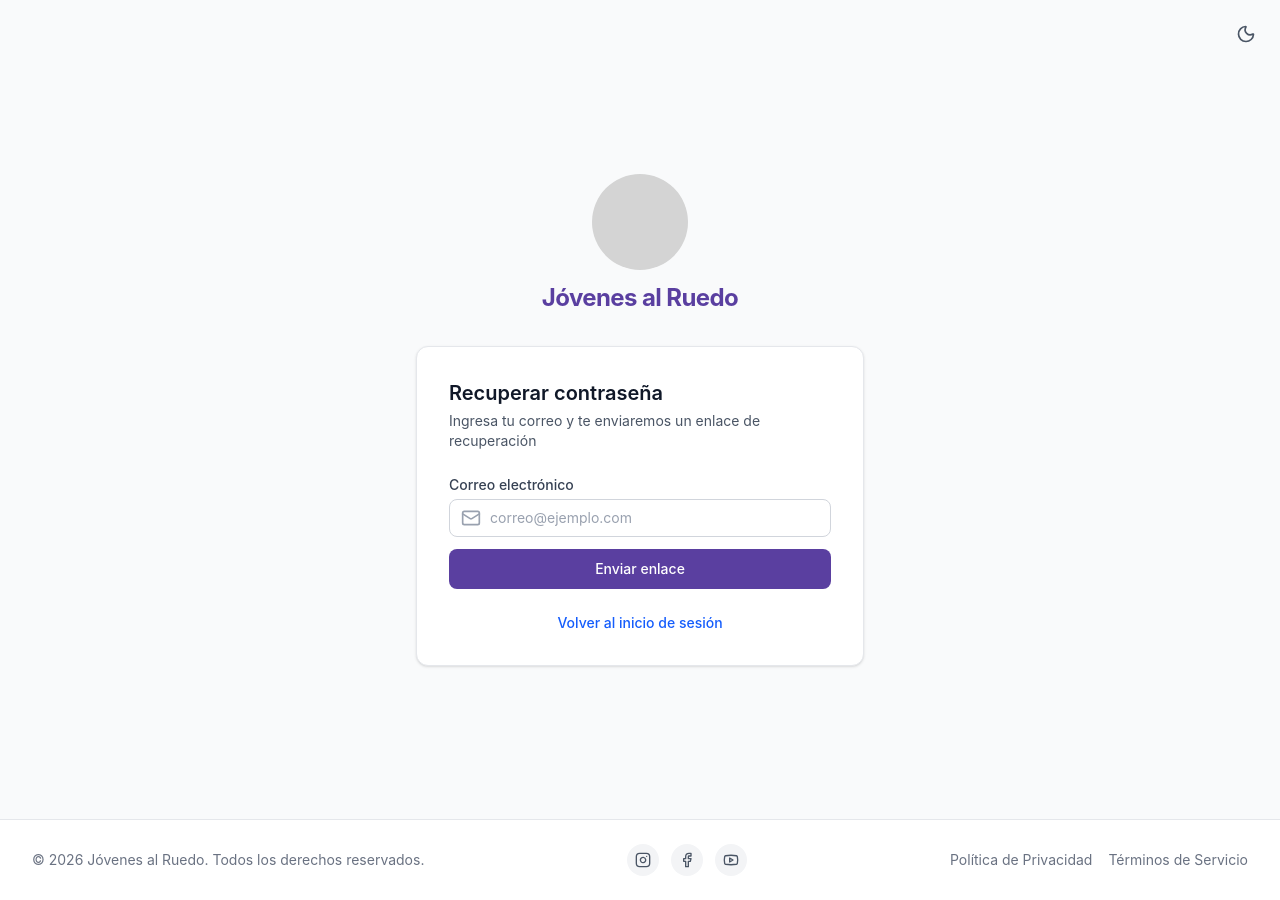
Test case: ForgotPasswordPage › muestra mensaje de éxito tras enviar solicitud
In the field labelled "Correo electrónico": (640, 518) [449,498,831,536], type "test@nn.com"
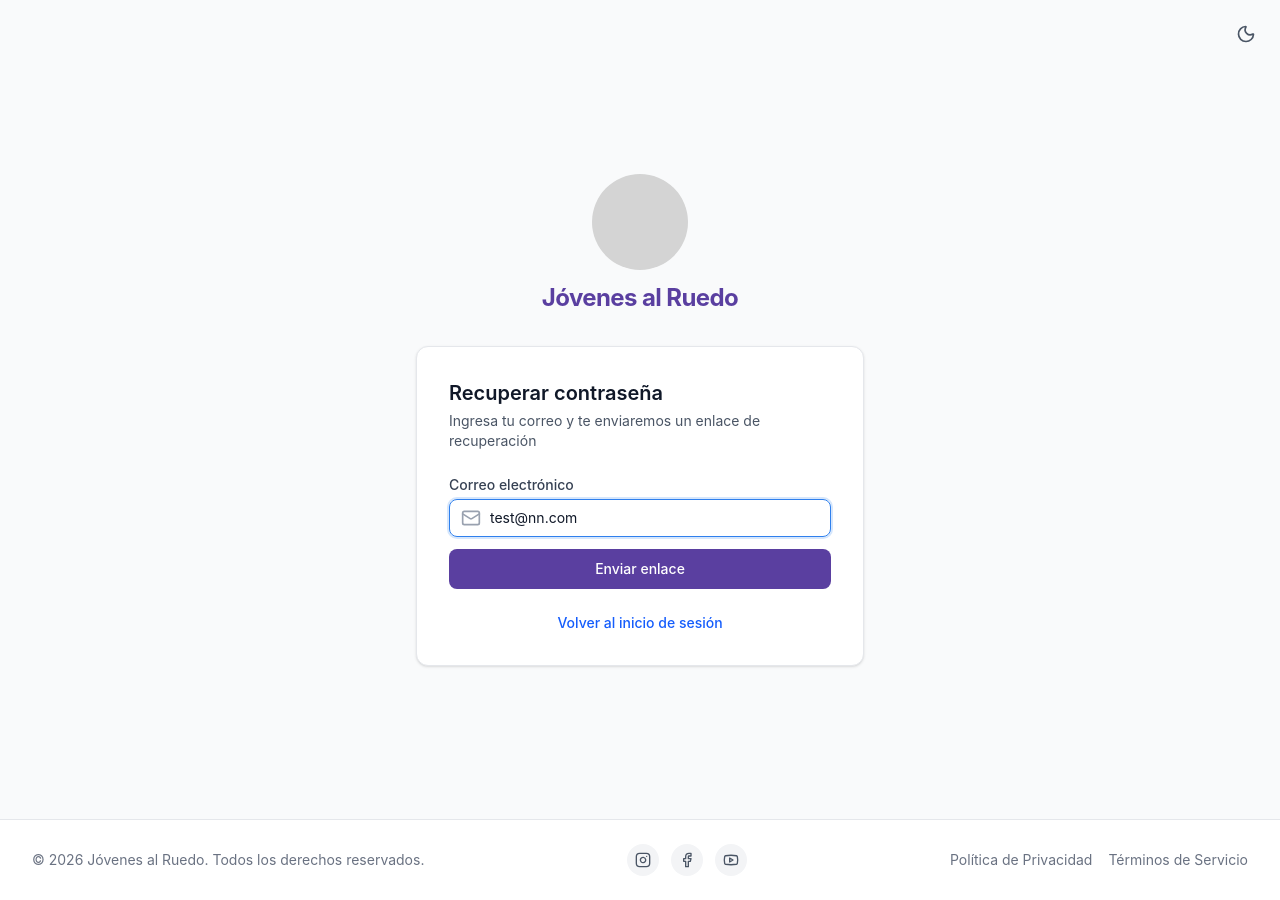
Click the button "Enviar enlace": click(640, 568) [449,548,831,588]
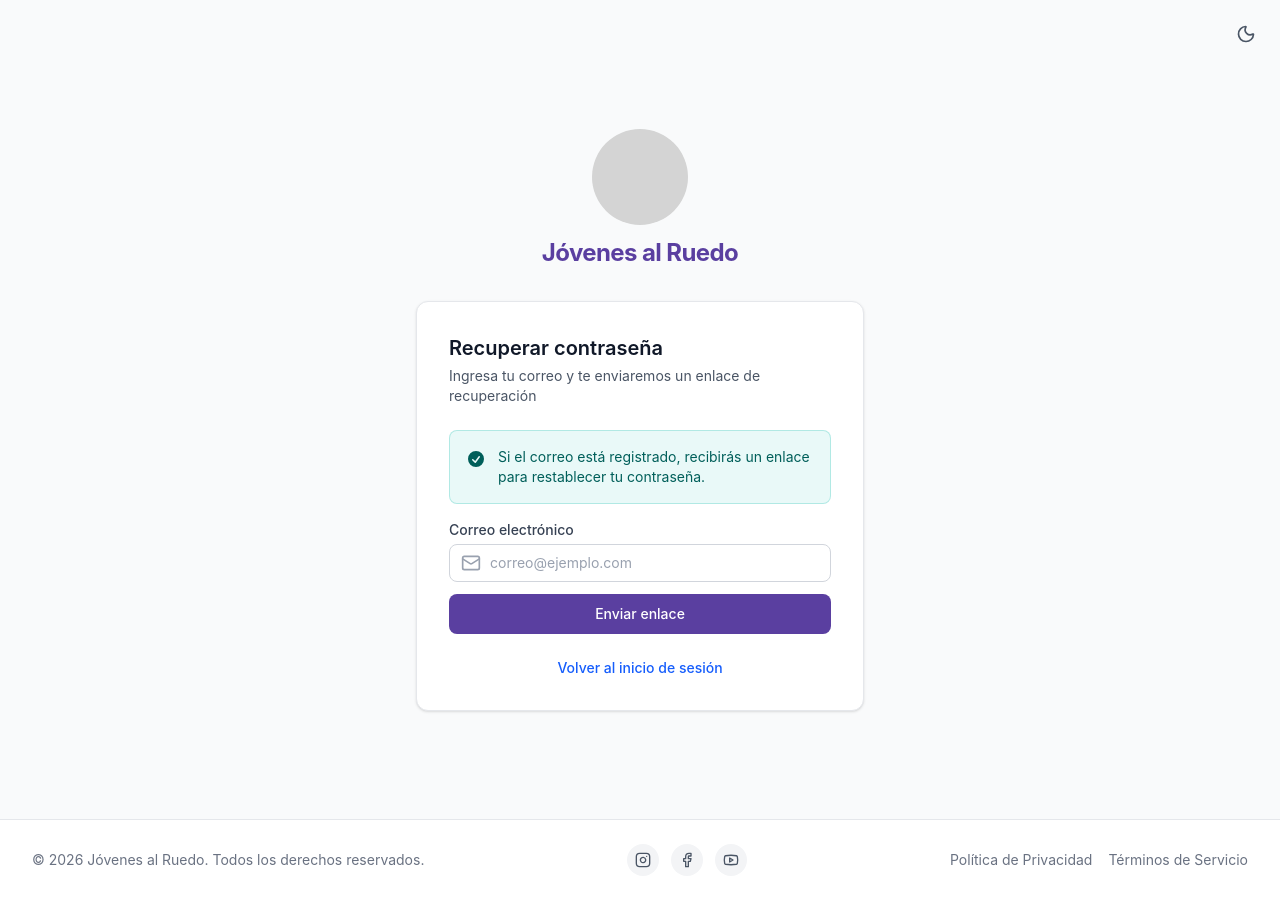
Expected: the text "Si el correo está registrado, recibirás un enlace para restablecer tu contraseña." is shown, [498,448,810,484]
